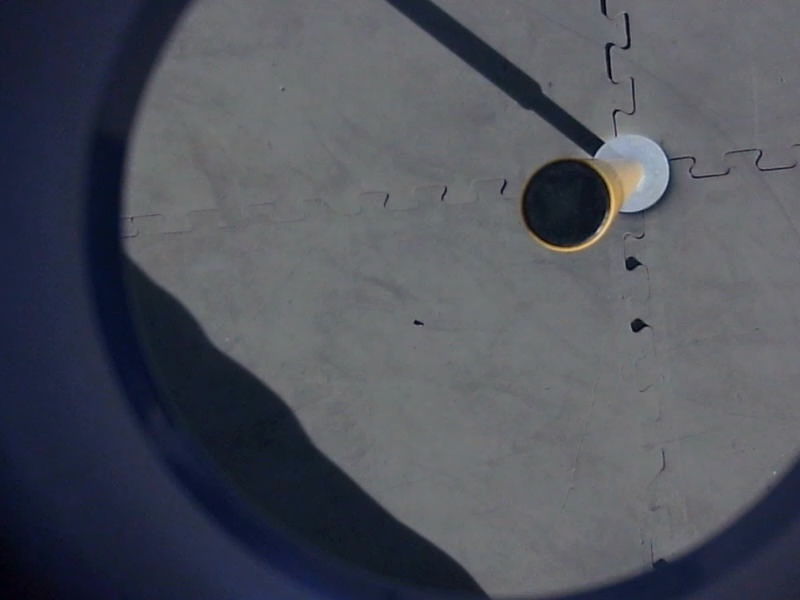tip: (511, 151, 623, 262)
